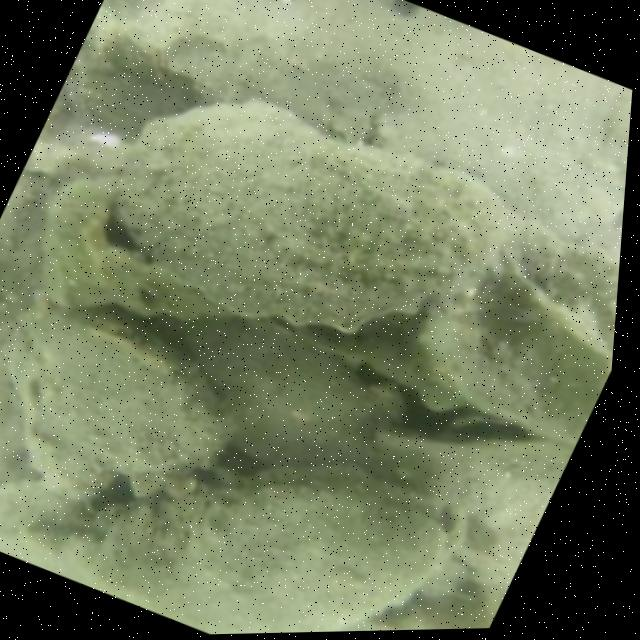Oyster-Closed: (101, 478, 468, 634)
Oyster-Indeterminate: (110, 100, 510, 328), (407, 224, 620, 446), (10, 313, 230, 482), (175, 320, 382, 465), (382, 432, 566, 580)
